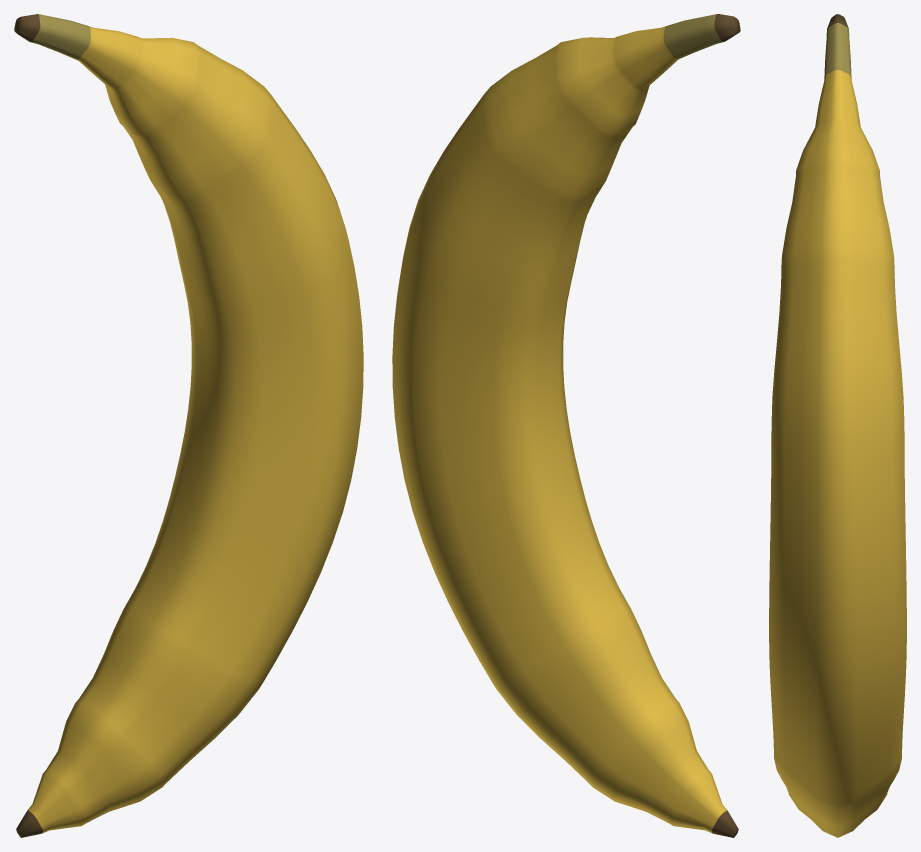
Rendered from A-NEW-20261027-BANANA-001_LOD2_R1.fbx.
3 views of the same model, side by side, from view 1: azimuth 30°, elevation 25°; view 2: azimuth 150°, elevation 25°; view 3: azimuth 270°, elevation 25° (orthographic). The views are drawn at different scales.
Visible parts, largest first — view 1: continuous original banana peel body and ends; view 2: continuous original banana peel body and ends; view 3: continuous original banana peel body and ends.
Boxes of the visible parts, bbox=[...] form: continuous original banana peel body and ends: bbox=[14, 14, 363, 837]; continuous original banana peel body and ends: bbox=[392, 14, 740, 837]; continuous original banana peel body and ends: bbox=[769, 14, 906, 837].
Bounding box in the file's own units: 12.41 × 28.32 × 4.54.
